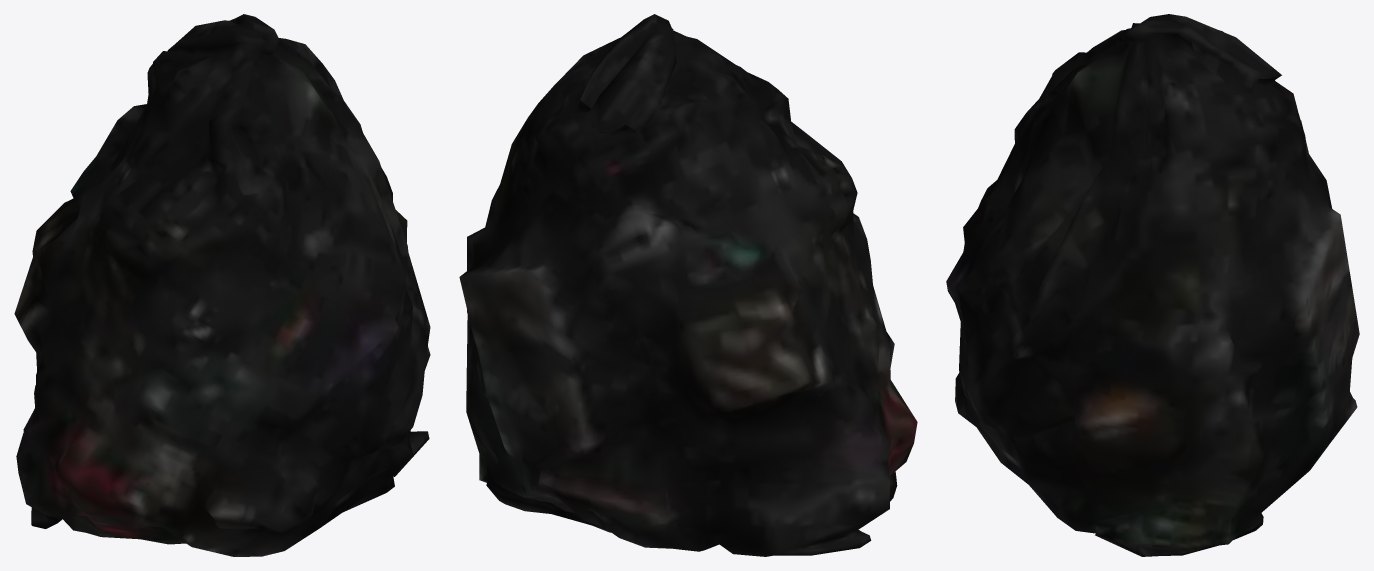
Rendered from trashbag.glb.
The picture shows the model from 3 angles, left to right: view 1: azimuth 30°, elevation 25°; view 2: azimuth 150°, elevation 25°; view 3: azimuth 270°, elevation 25°; orthographic projection. The views are drawn at different scales.
Parts seen in each view (by area): view 1: trashbag; view 2: trashbag; view 3: trashbag.
Boxes of the visible parts, x1,y1,x2,y2 form: trashbag: [14, 14, 430, 556]; trashbag: [459, 14, 917, 556]; trashbag: [946, 14, 1359, 556].
Size of the model in its own units: 0.5236 by 0.5725 by 0.4629.
Materials: 1 (1 with a texture image).
